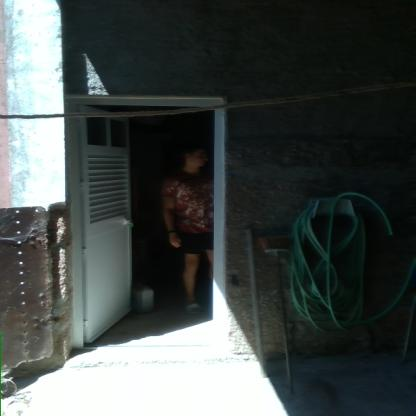semi: (54, 86, 242, 358)
